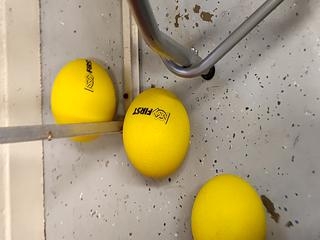power_cell: (117, 75, 201, 181), (47, 53, 121, 146), (191, 167, 269, 240)
